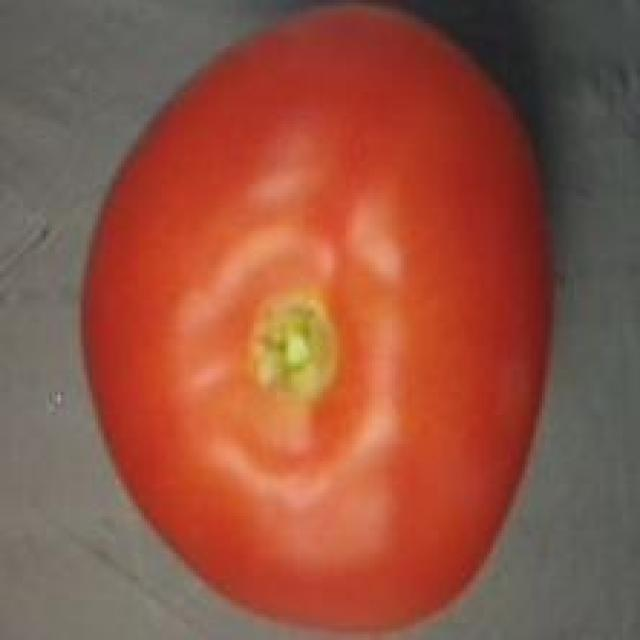ripe tomato: (72, 0, 574, 640)
